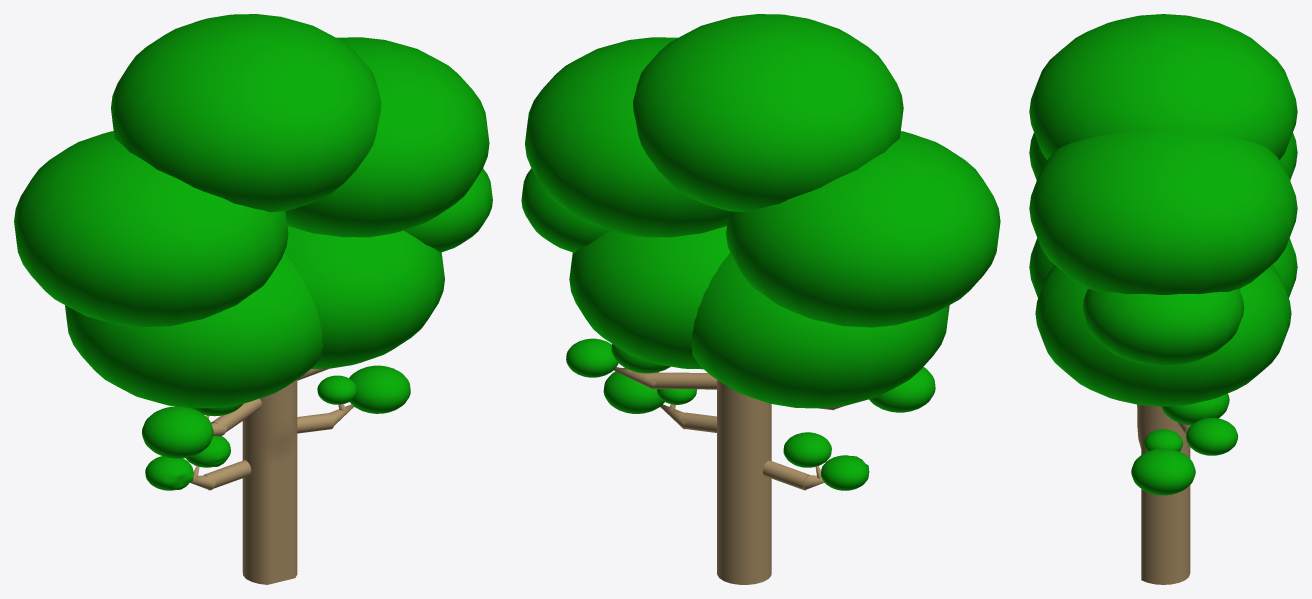
The model's file is treetest.fbx.
3 renders of one model, left to right at view 1: azimuth 30°, elevation 25°; view 2: azimuth 150°, elevation 25°; view 3: azimuth 270°, elevation 25°, orthographic. The views are drawn at different scales.
Parts seen in each view (by area): view 1: pSphere17; view 2: pSphere17; view 3: pSphere17.
Boxes of the visible parts, x1=… form: pSphere17: x1=14, y1=14, x2=492, y2=584; pSphere17: x1=521, y1=14, x2=1000, y2=584; pSphere17: x1=1029, y1=14, x2=1297, y2=584.
Size of the model in its own units: 3263 by 3780 by 1730.
